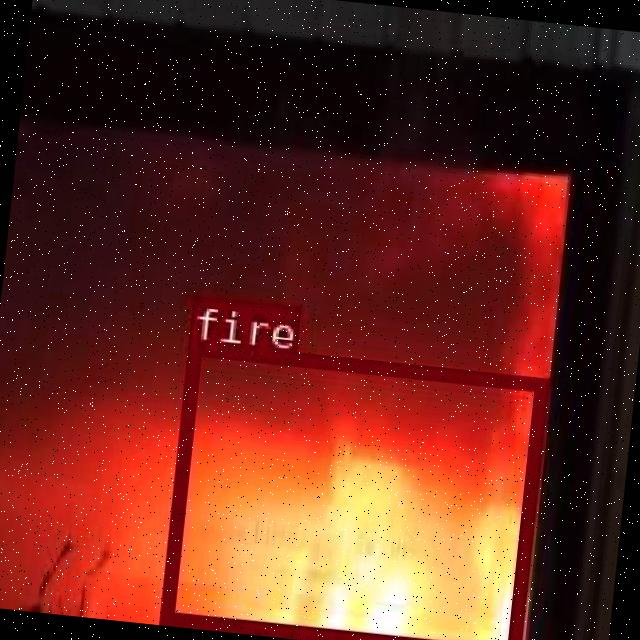fire: (156, 339, 543, 640)
